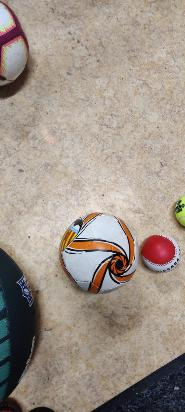Football mini: (57, 210, 140, 296)
Honkball: (140, 231, 181, 272)
